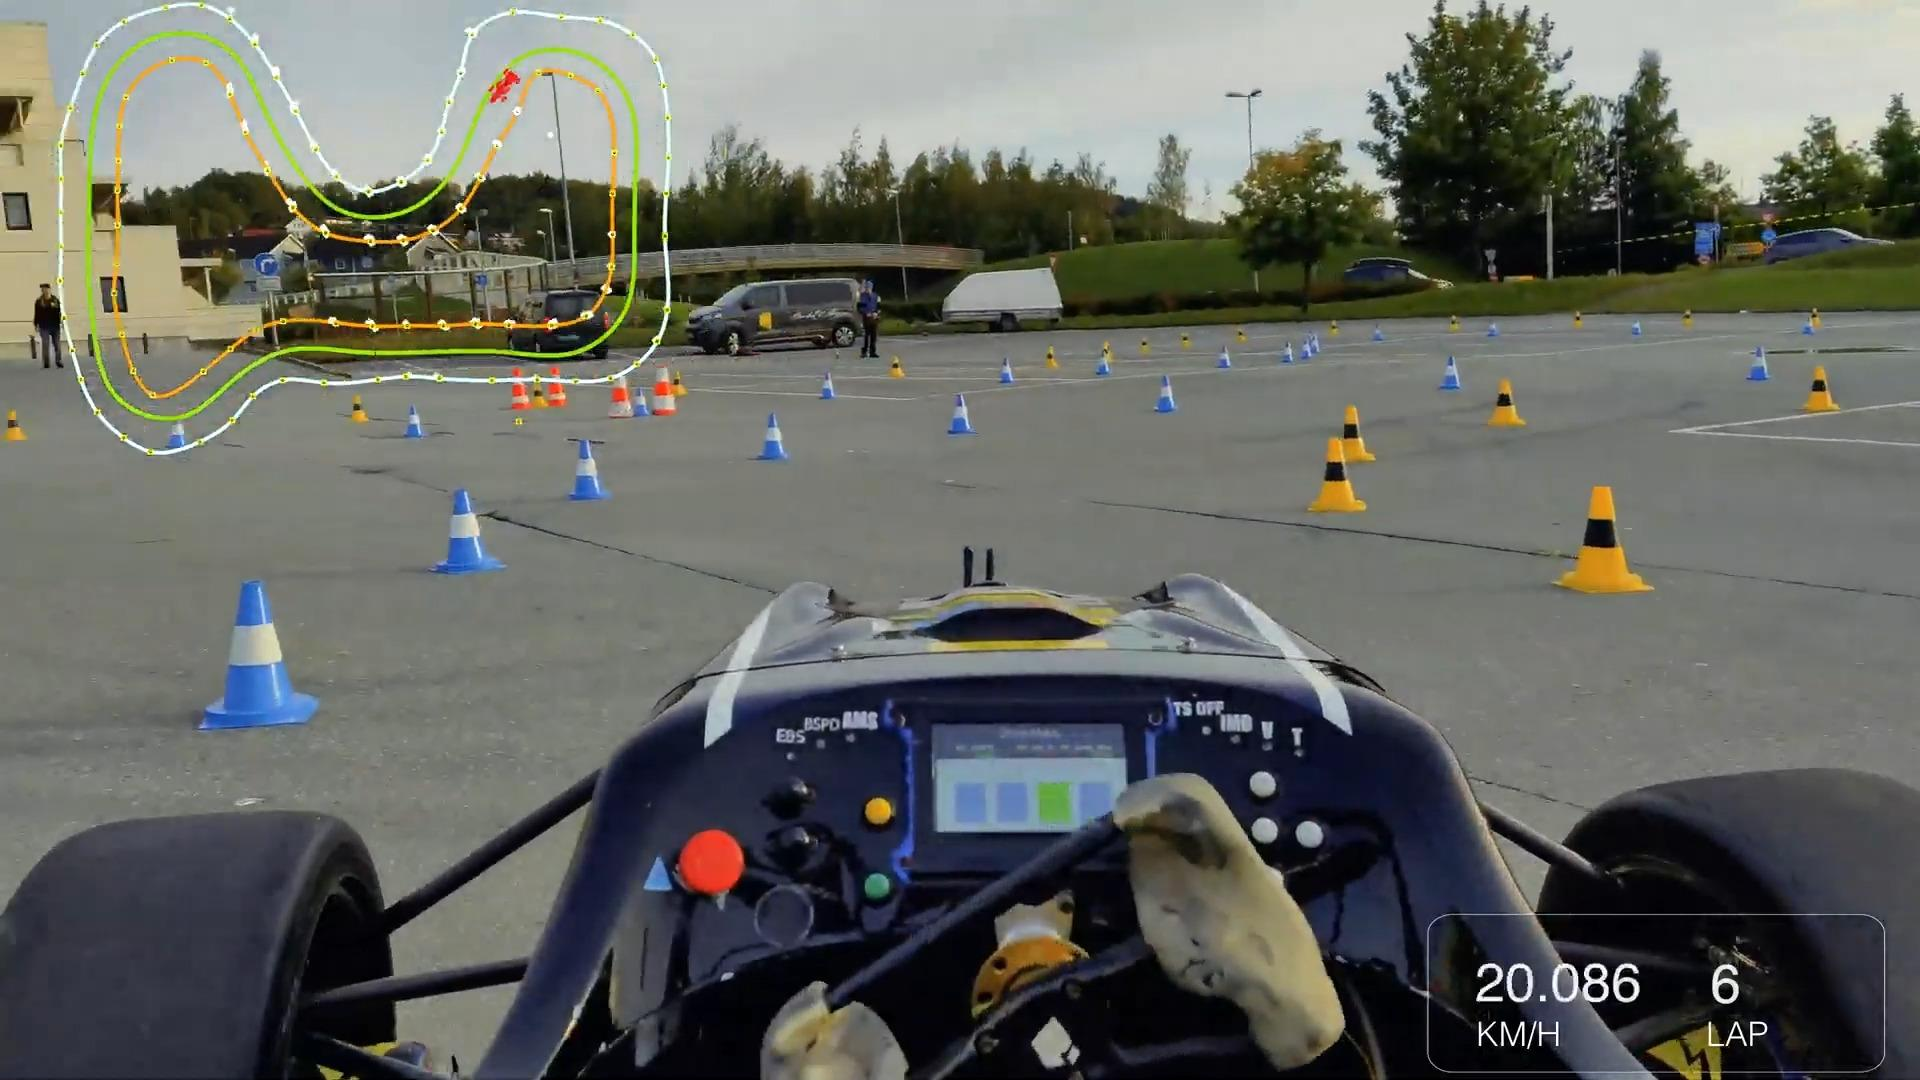blue_cone: (196, 577, 319, 729), (429, 483, 506, 577), (571, 440, 609, 504), (759, 407, 787, 466), (946, 394, 979, 437), (1151, 375, 1181, 414), (1437, 353, 1465, 393), (1747, 341, 1773, 384), (403, 404, 422, 439), (996, 354, 1013, 383), (1094, 353, 1110, 380), (633, 391, 650, 416), (822, 373, 837, 401), (1218, 343, 1232, 371)
large_orange_cone: (606, 366, 630, 417), (651, 366, 675, 414), (509, 364, 529, 410), (546, 366, 566, 404)
yellow_cone: (1552, 484, 1653, 596), (1308, 436, 1359, 514), (1338, 400, 1373, 460), (1485, 381, 1523, 426), (1802, 364, 1836, 413), (3, 406, 26, 441), (348, 390, 366, 424), (529, 380, 549, 407), (671, 373, 686, 400), (888, 356, 903, 379), (1043, 349, 1056, 369)
